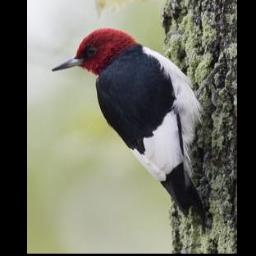Woodpecker: (43, 24, 221, 231)
